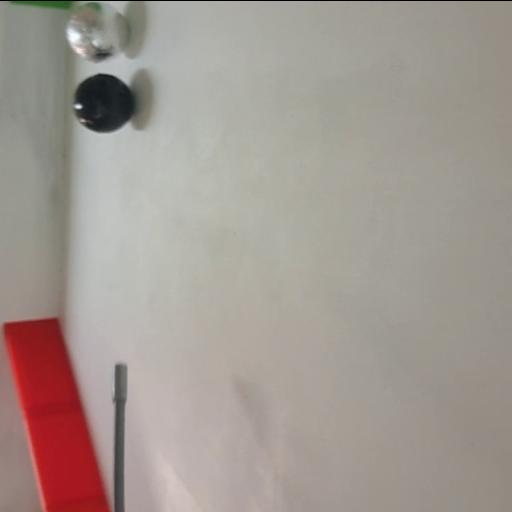alive: (66, 1, 128, 63)
dead: (73, 72, 135, 133)
